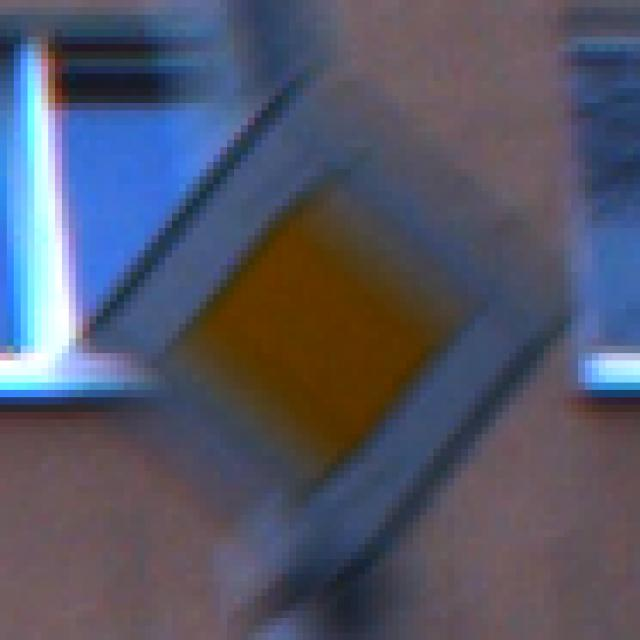Main Road: (63, 60, 586, 589)
